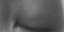RightEyeFatigue: (7, 9, 60, 32)
